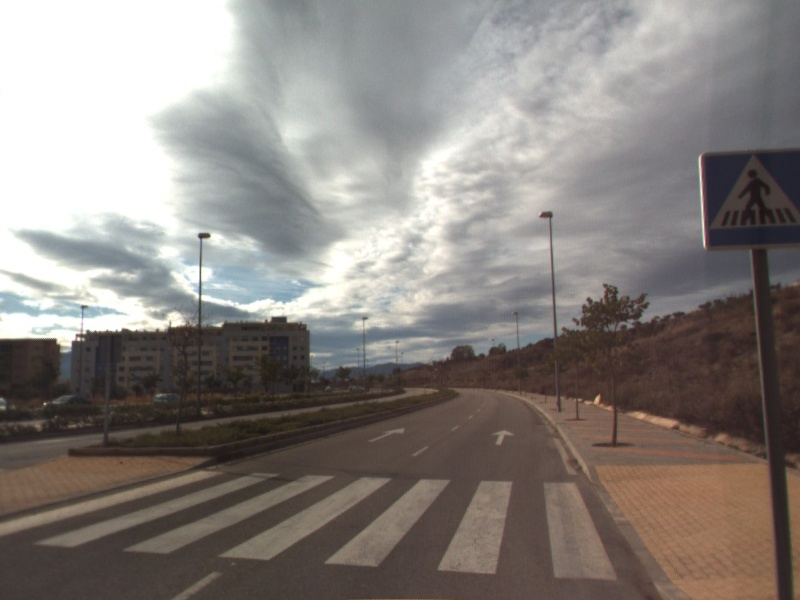STRAIGHT: (366, 425, 406, 444), (489, 427, 516, 447)
